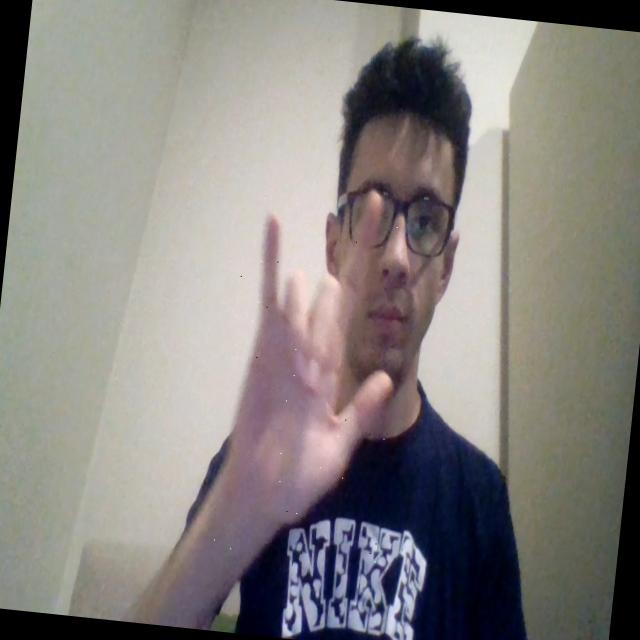iloveyou: (207, 172, 416, 570)
